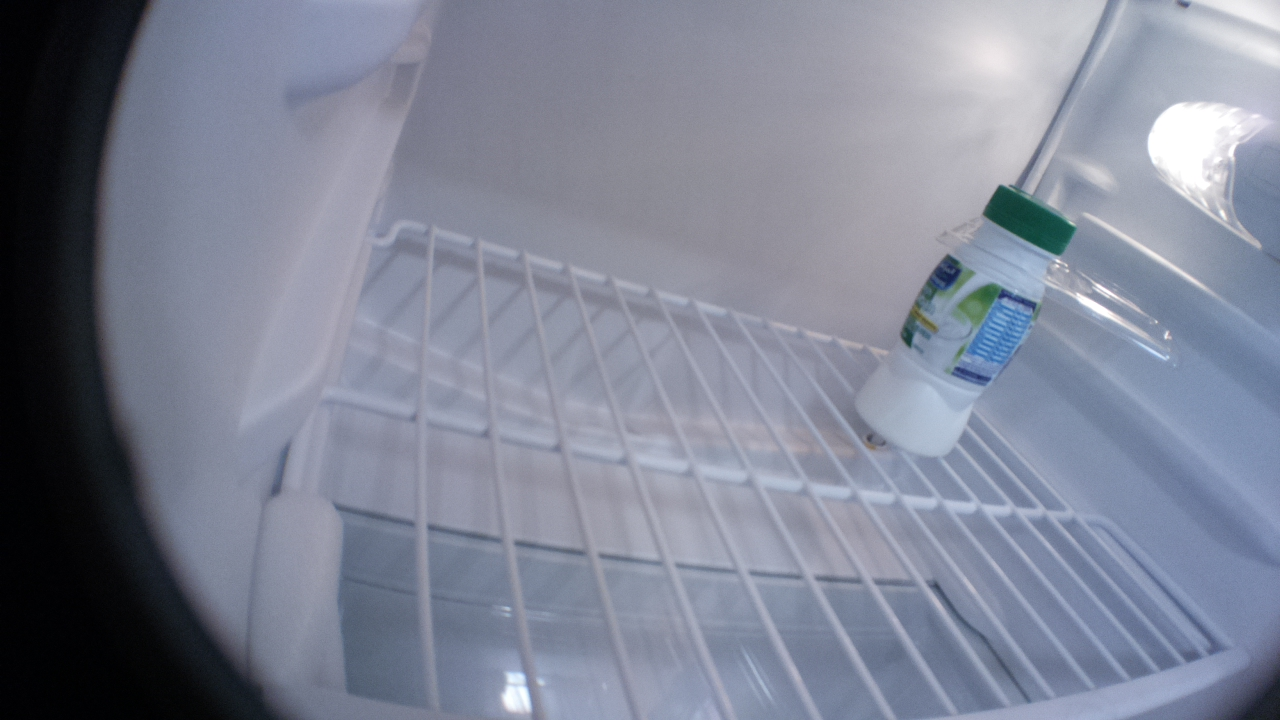laban: (846, 179, 1100, 479)
